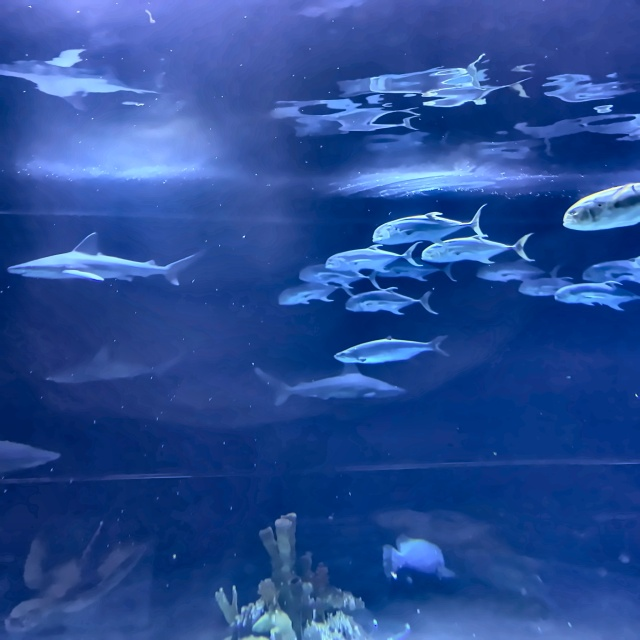fish: (372, 203, 488, 246), (382, 535, 457, 587), (563, 181, 639, 231), (422, 232, 537, 263), (333, 335, 450, 363), (325, 241, 422, 273), (344, 288, 438, 316), (555, 281, 639, 312), (299, 263, 386, 291), (474, 259, 563, 283), (376, 257, 457, 283), (277, 282, 358, 306), (582, 256, 639, 284), (518, 276, 574, 297)
shark: (7, 232, 205, 285), (252, 364, 407, 407), (46, 345, 185, 385), (0, 440, 61, 474)
